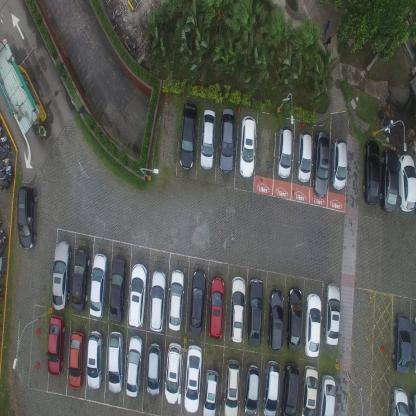car: (49, 237, 71, 312), (15, 181, 37, 251), (86, 251, 108, 320), (178, 102, 198, 171), (247, 276, 266, 348), (183, 342, 202, 414), (126, 262, 146, 330), (69, 246, 89, 314), (107, 254, 126, 325), (124, 334, 144, 399), (305, 292, 324, 360), (229, 274, 247, 345), (382, 146, 401, 212), (313, 129, 331, 198), (207, 275, 226, 340), (238, 113, 257, 178), (364, 137, 382, 205), (278, 361, 300, 416), (188, 268, 206, 335), (148, 267, 166, 334), (286, 286, 304, 353), (167, 268, 185, 333), (268, 288, 286, 353), (393, 310, 411, 375), (164, 339, 182, 404), (323, 281, 341, 345), (260, 358, 280, 415), (86, 328, 104, 391), (107, 328, 124, 394), (46, 314, 64, 376), (222, 357, 241, 415), (218, 105, 234, 173), (398, 152, 416, 212), (199, 108, 216, 170), (299, 364, 319, 416), (67, 329, 84, 390), (145, 340, 162, 400), (330, 135, 348, 191), (275, 124, 293, 179), (242, 360, 260, 415), (296, 128, 312, 184), (202, 367, 220, 415), (317, 372, 336, 415), (390, 385, 408, 415)
